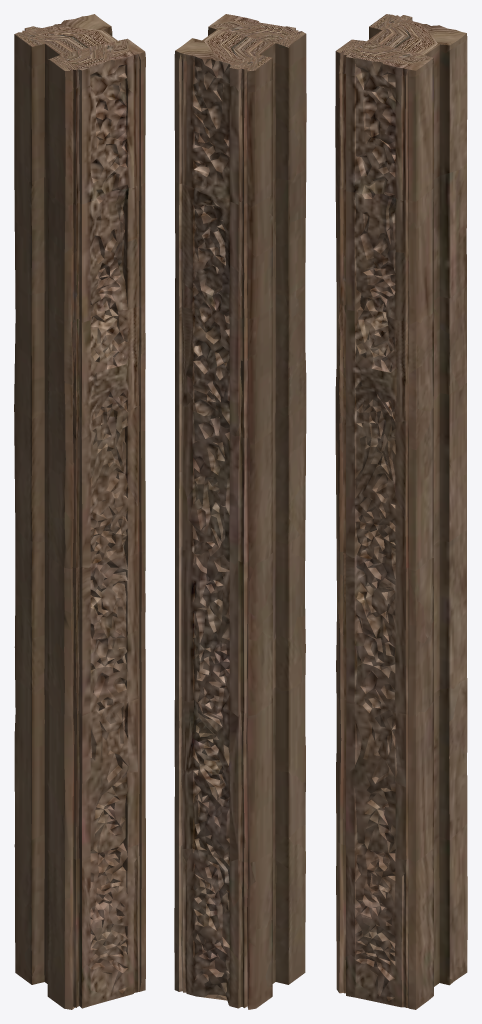
Rendered from SM_MenTou_2b_aecffd.glb.
3 views of the same model, side by side, from view 1: azimuth 30°, elevation 25°; view 2: azimuth 150°, elevation 25°; view 3: azimuth 330°, elevation 25° (orthographic).
Parts seen in each view (by area): view 1: SM_MenTou_2b; view 2: SM_MenTou_2b; view 3: SM_MenTou_2b.
Boxes of the visible parts, left/top/right/bottom form: SM_MenTou_2b: left=14, top=14, right=145, bottom=1009; SM_MenTou_2b: left=174, top=14, right=306, bottom=1009; SM_MenTou_2b: left=335, top=14, right=467, bottom=1009.
Bounding box in the file's own units: 0.0791 × 0.8788 × 0.0985.
Materials: 1 (1 with a texture image).
